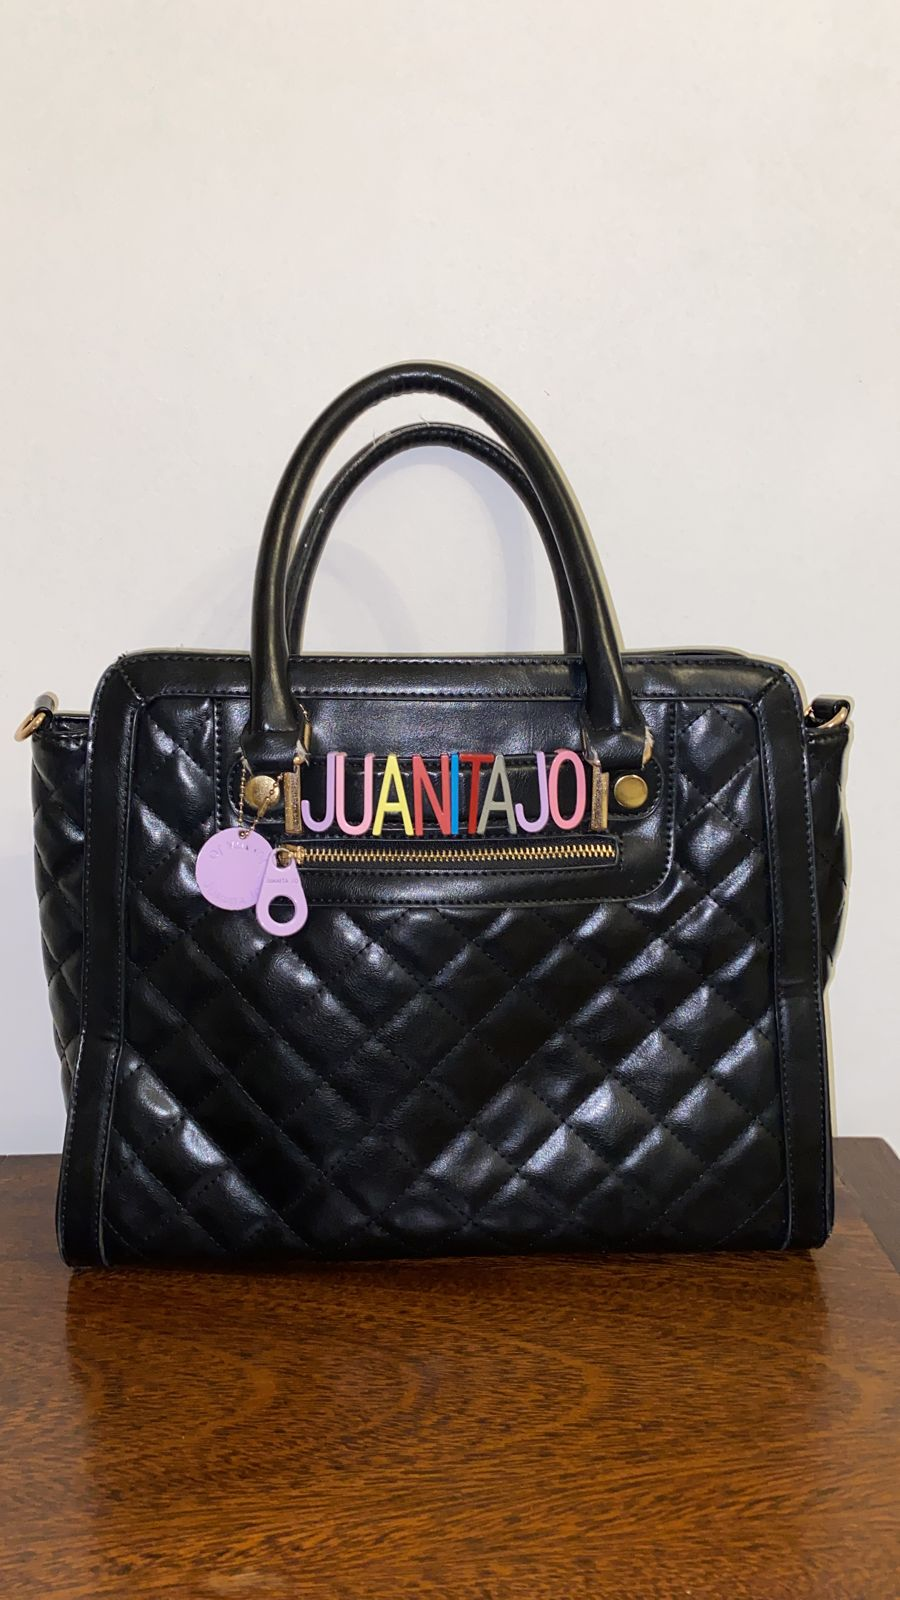cartera: (19, 331, 859, 1271)
cuero: (156, 933, 747, 1212)
